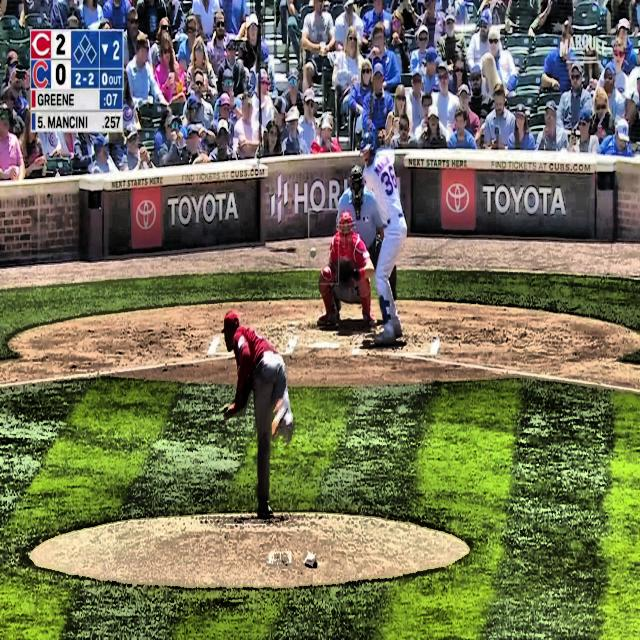baseball: (310, 246, 317, 258)
